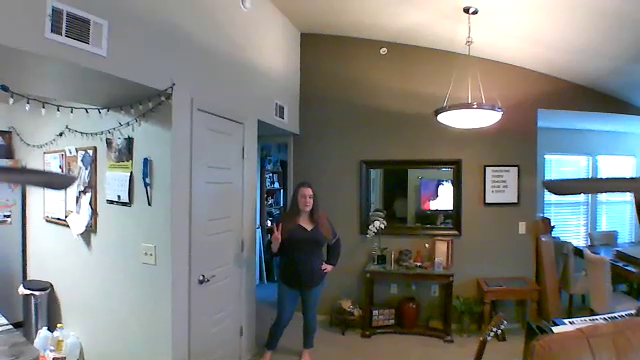peace: (266, 221, 287, 250)
